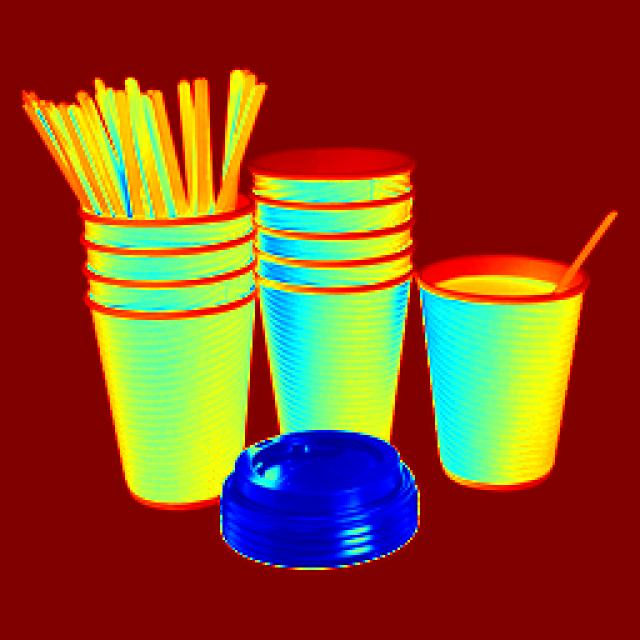Paper Cups: (83, 186, 255, 526), (253, 159, 427, 436), (431, 246, 578, 488), (236, 432, 400, 583)
